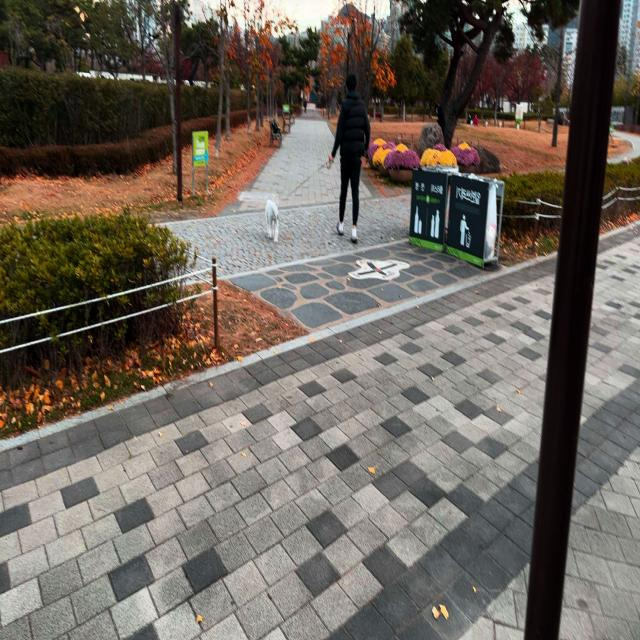Leashed_Dog: (265, 151, 359, 242), (359, 167, 362, 167)
